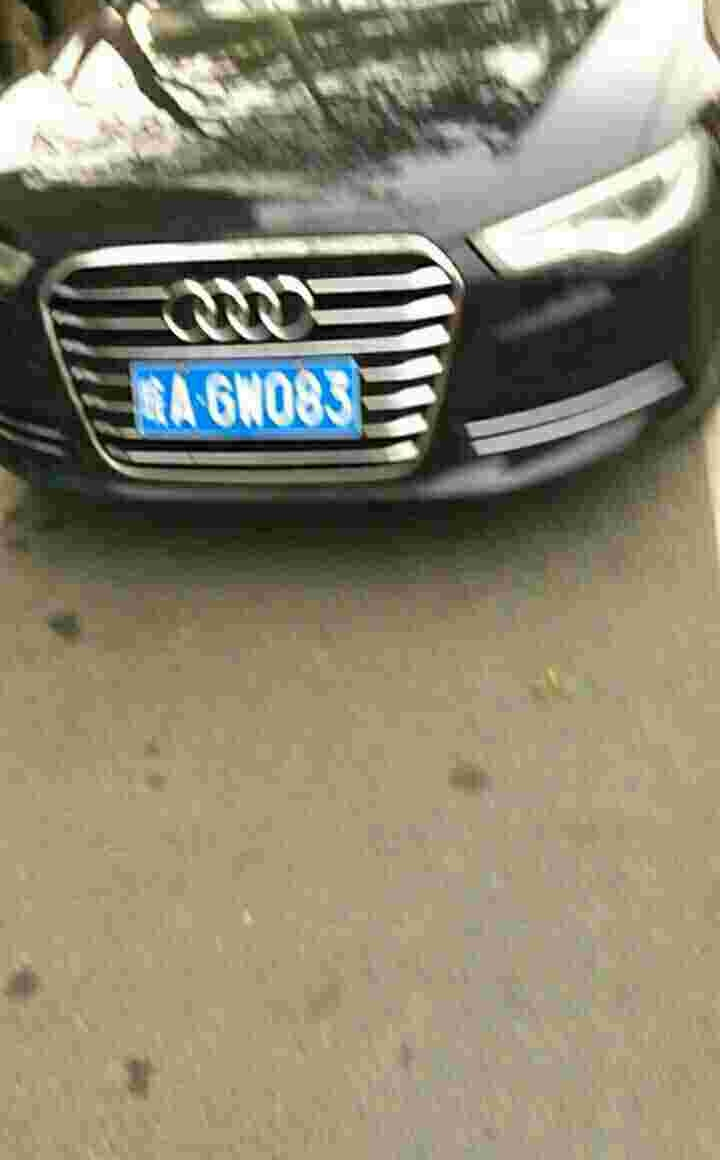plate: (130, 357, 368, 442)
